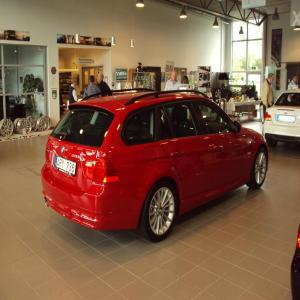Vehicle-registration-plate: (56, 156, 78, 178), (278, 116, 296, 124)
